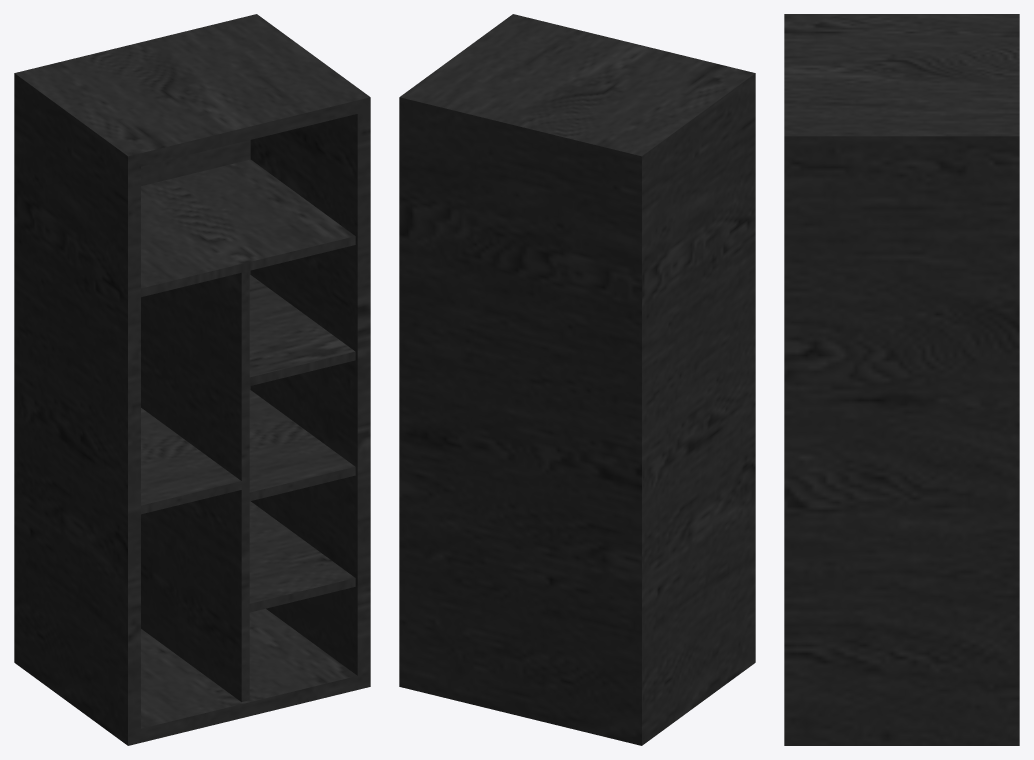
File: Closet20.fbx
The picture shows the model from 3 angles, left to right: view 1: azimuth 30°, elevation 25°; view 2: azimuth 150°, elevation 25°; view 3: azimuth 270°, elevation 25°; orthographic projection. The views are drawn at different scales.
Visible parts, largest first — view 1: Closet20; view 2: Closet20; view 3: Closet20.
Part boxes in pixels (left/top/right/bottom): Closet20: left=14, top=14, right=370, bottom=745; Closet20: left=399, top=14, right=755, bottom=745; Closet20: left=784, top=14, right=1019, bottom=745.
Size of the model in its own units: 109 by 254 by 88.93.
